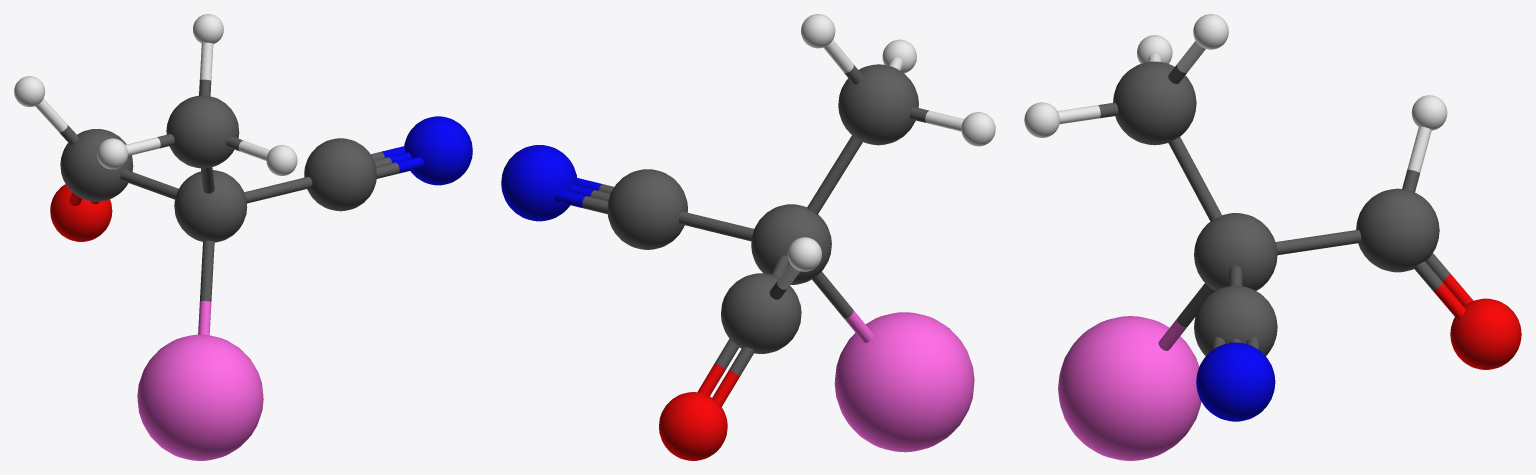
The model's file is R-2-cyano-1-oxopropan-2-yl-lithium.fbx.
3 views of the same model, side by side, from view 1: azimuth 30°, elevation 25°; view 2: azimuth 150°, elevation 25°; view 3: azimuth 270°, elevation 25° (orthographic). The views are drawn at different scales.
Parts seen in each view (by area): view 1: Li11, C09, C01, C05, N10, C06, O07, C05-Li11, C09#N10.001, C05-C09, H02, H04 (+7 smaller); view 2: Li11, C09, C01, C06, N10, O07, C05, C06=O07, C09#N10.001, C01-C05, C05-Li11, C05-C09 (+6 smaller); view 3: Li11, C06, C01, C05, N10, C09, O07, C06=O07, C01-C05, C05-C06, H03, H02 (+6 smaller).
Part boxes in pixels (x1,y1,x2,y2): Li11: [137, 334, 263, 460]; C09: [304, 138, 376, 211]; C01: [166, 95, 239, 168]; C05: [174, 170, 247, 242]; N10: [404, 116, 472, 185]; C06: [60, 129, 133, 201]; O07: [50, 184, 112, 241]; C05-Li11: [198, 240, 214, 335]; C09#N10.001: [371, 146, 424, 178]; C05-C09: [244, 176, 312, 203]; H02: [266, 145, 297, 175]; H04: [97, 138, 127, 169]; Li11: [834, 312, 974, 452]; C09: [607, 169, 687, 249]; C01: [838, 64, 918, 145]; C06: [721, 273, 801, 353]; N10: [501, 145, 576, 221]; O07: [659, 392, 727, 460]; C05: [751, 204, 831, 284]; C06=O07: [697, 339, 754, 407]; C09#N10.001: [554, 178, 614, 214]; C01-C05: [807, 135, 862, 214]; C05-Li11: [812, 271, 873, 342]; C05-C09: [679, 211, 754, 241]; Li11: [1058, 316, 1201, 460]; C06: [1356, 188, 1439, 272]; C01: [1113, 61, 1196, 145]; C05: [1194, 213, 1277, 290]; N10: [1196, 342, 1275, 421]; C09: [1194, 285, 1277, 355]; O07: [1450, 298, 1521, 369]; C06=O07: [1414, 253, 1473, 319]; C01-C05: [1168, 137, 1221, 221]; C05-C06: [1275, 229, 1361, 254]; H03: [1193, 14, 1228, 49]; H02: [1024, 102, 1059, 137].
Bounding box in the file's own units: 480 × 457 × 446.
